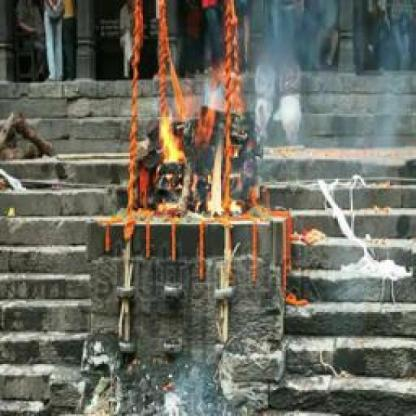fire: (156, 65, 229, 216)
